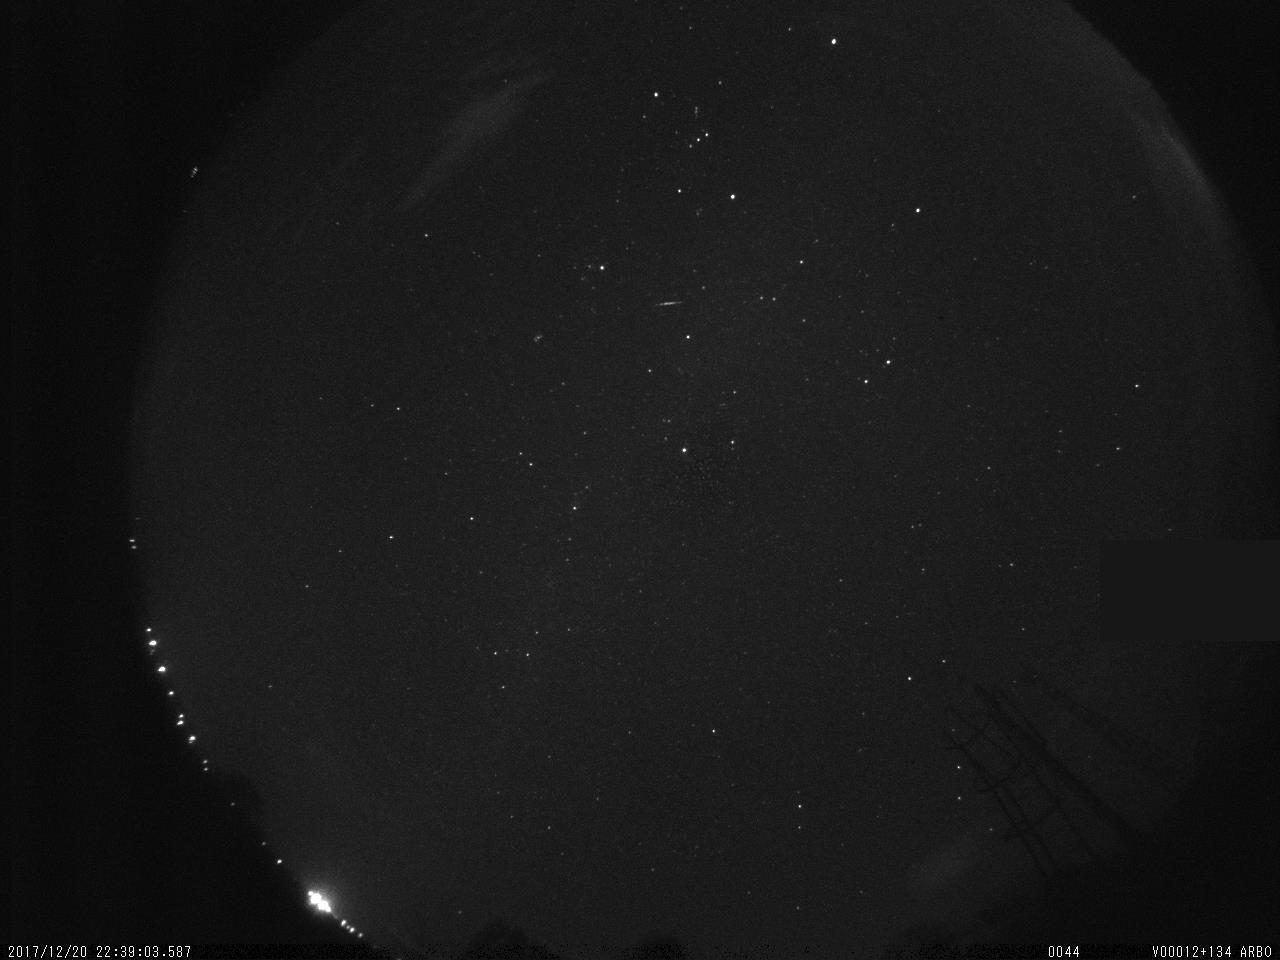Meteor: (648, 294, 692, 313)
